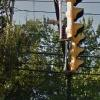Traffic light: (57, 0, 97, 78)
